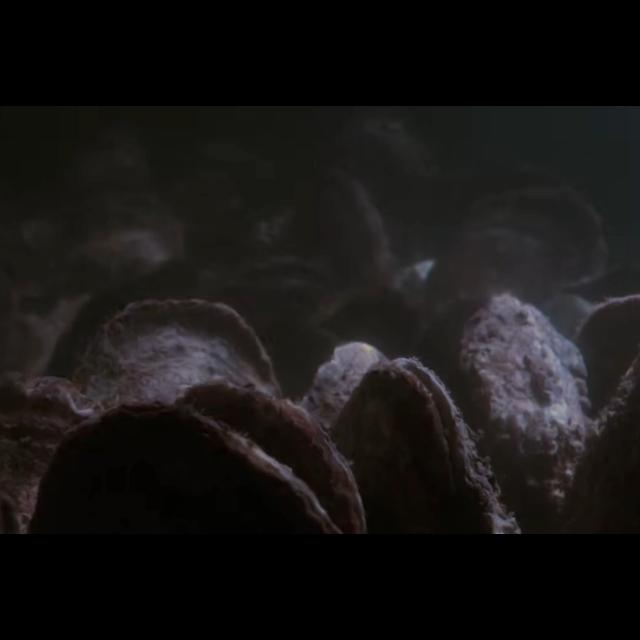Oyster-Closed: (34, 402, 346, 534), (173, 380, 367, 534), (0, 369, 102, 535)
Oyster-Indeterminate: (70, 299, 280, 535), (456, 293, 592, 535), (427, 186, 609, 326), (297, 342, 389, 534), (293, 168, 397, 302), (47, 195, 186, 292), (572, 295, 640, 443)
Oyster-Open: (332, 357, 520, 535), (217, 252, 343, 318)
